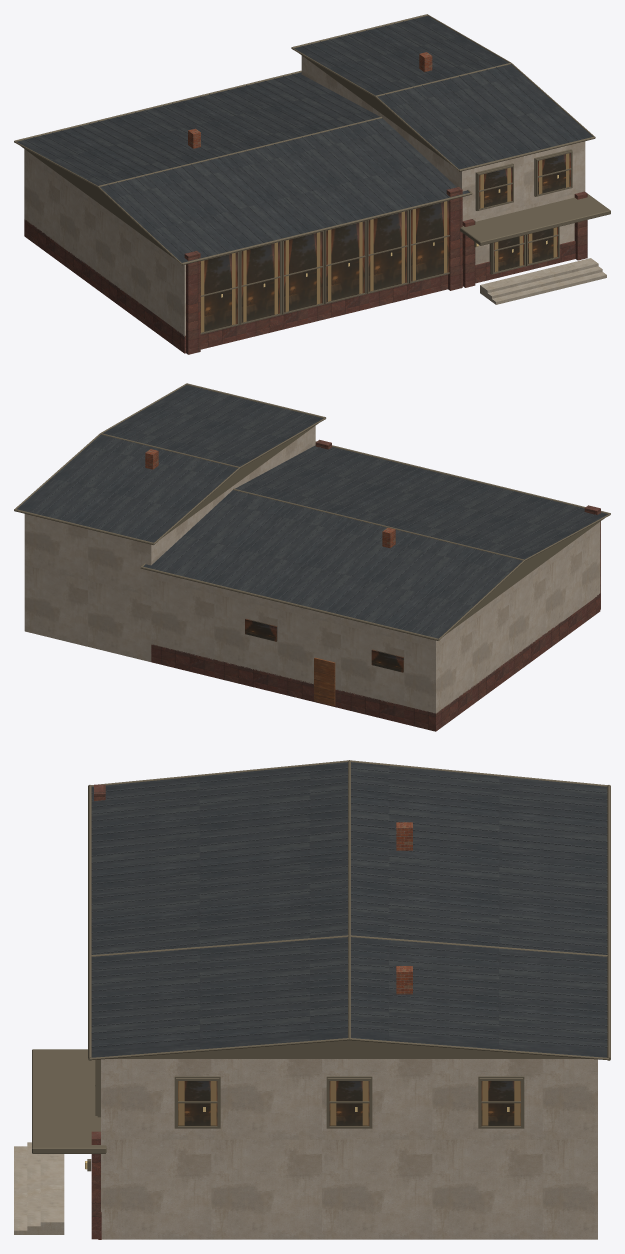
File: restaurant.glb
The picture shows the model from 3 angles, top to bottom: view 1: azimuth 30°, elevation 25°; view 2: azimuth 150°, elevation 25°; view 3: azimuth 270°, elevation 25°; orthographic projection. The views are drawn at different scales.
Visible parts, largest first — view 1: restaurant; view 2: restaurant; view 3: restaurant.
Part boxes in pixels (x1,y1,x2,y2): restaurant: (14,14,610,354); restaurant: (14,383,610,731); restaurant: (14,760,610,1239).
Size of the model in its own units: 26.89 by 8.95 by 21.62.
Materials: 9 (5 with a texture image).
